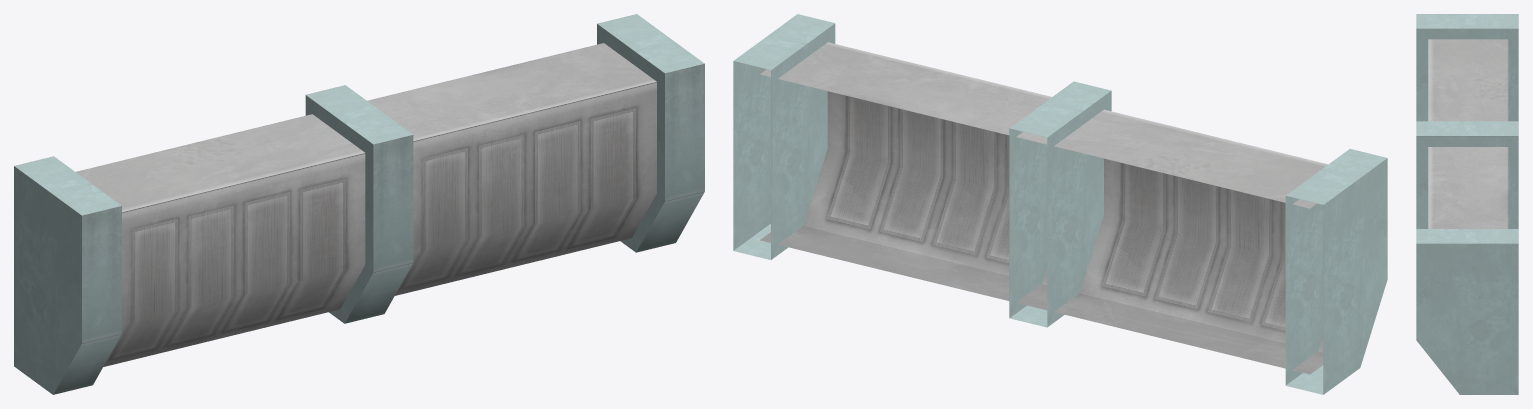
Rendered from shelf.FBX.
3 views of the same model, side by side, from view 1: azimuth 30°, elevation 25°; view 2: azimuth 150°, elevation 25°; view 3: azimuth 270°, elevation 25° (orthographic). The views are drawn at different scales.
Visible parts, largest first — view 1: shelf; view 2: shelf; view 3: shelf.
Boxes of the visible parts, x1,y1,x2,y2 form: shelf: [14, 14, 704, 394]; shelf: [733, 14, 1387, 394]; shelf: [1416, 14, 1518, 394].
Bounding box in the file's own units: 553 × 170 × 104.
